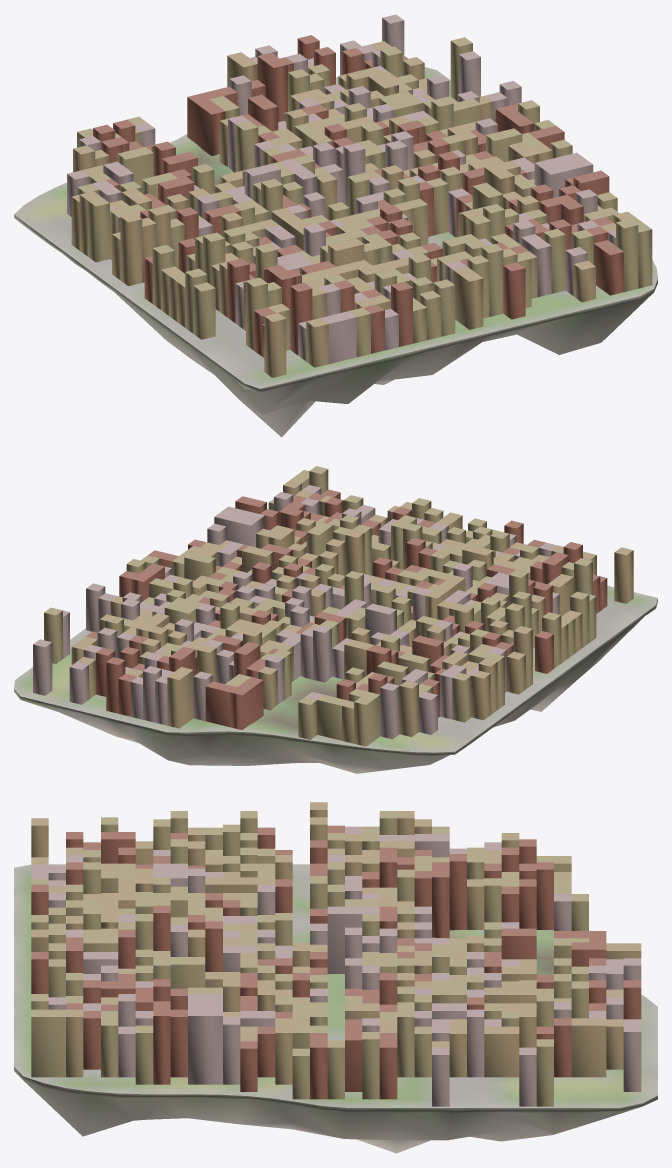
The model's file is SKY-005.lod1.glb.
3 renders of one model, top to bottom at view 1: azimuth 30°, elevation 25°; view 2: azimuth 150°, elevation 25°; view 3: azimuth 270°, elevation 25°, orthographic. The views are drawn at different scales.
Parts seen in each view (by area): view 1: warren_hull, rock, deck; view 2: warren_hull, rock, deck; view 3: warren_hull, deck, rock.
Part boxes in pixels (left/top/right/bottom): warren_hull: left=67, top=14, right=652, bottom=377; rock: left=14, top=215, right=657, bottom=437; deck: left=14, top=67, right=657, bottom=388; warren_hull: left=33, top=466, right=633, bottom=746; rock: left=14, top=599, right=657, bottom=773; deck: left=14, top=585, right=657, bottom=752; warren_hull: left=31, top=802, right=641, bottom=1106; deck: left=14, top=864, right=657, bottom=1107; rock: left=14, top=1067, right=657, bottom=1153.
Bounding box in the file's own units: 199 × 70.47 × 222.
